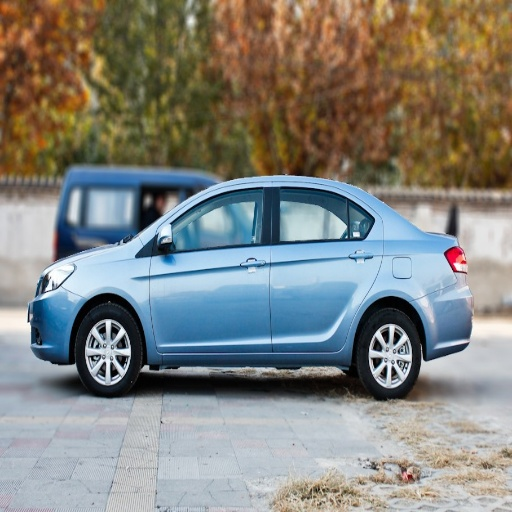back_left_door: (271, 186, 380, 352)
front_left_door: (150, 187, 271, 353)
